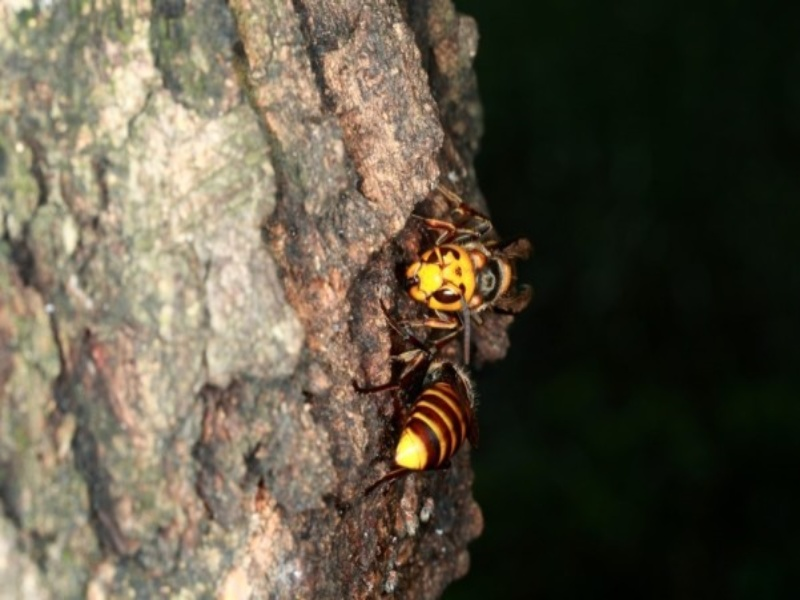asian_giant_hornet: (403, 183, 538, 339), (354, 356, 478, 472)
